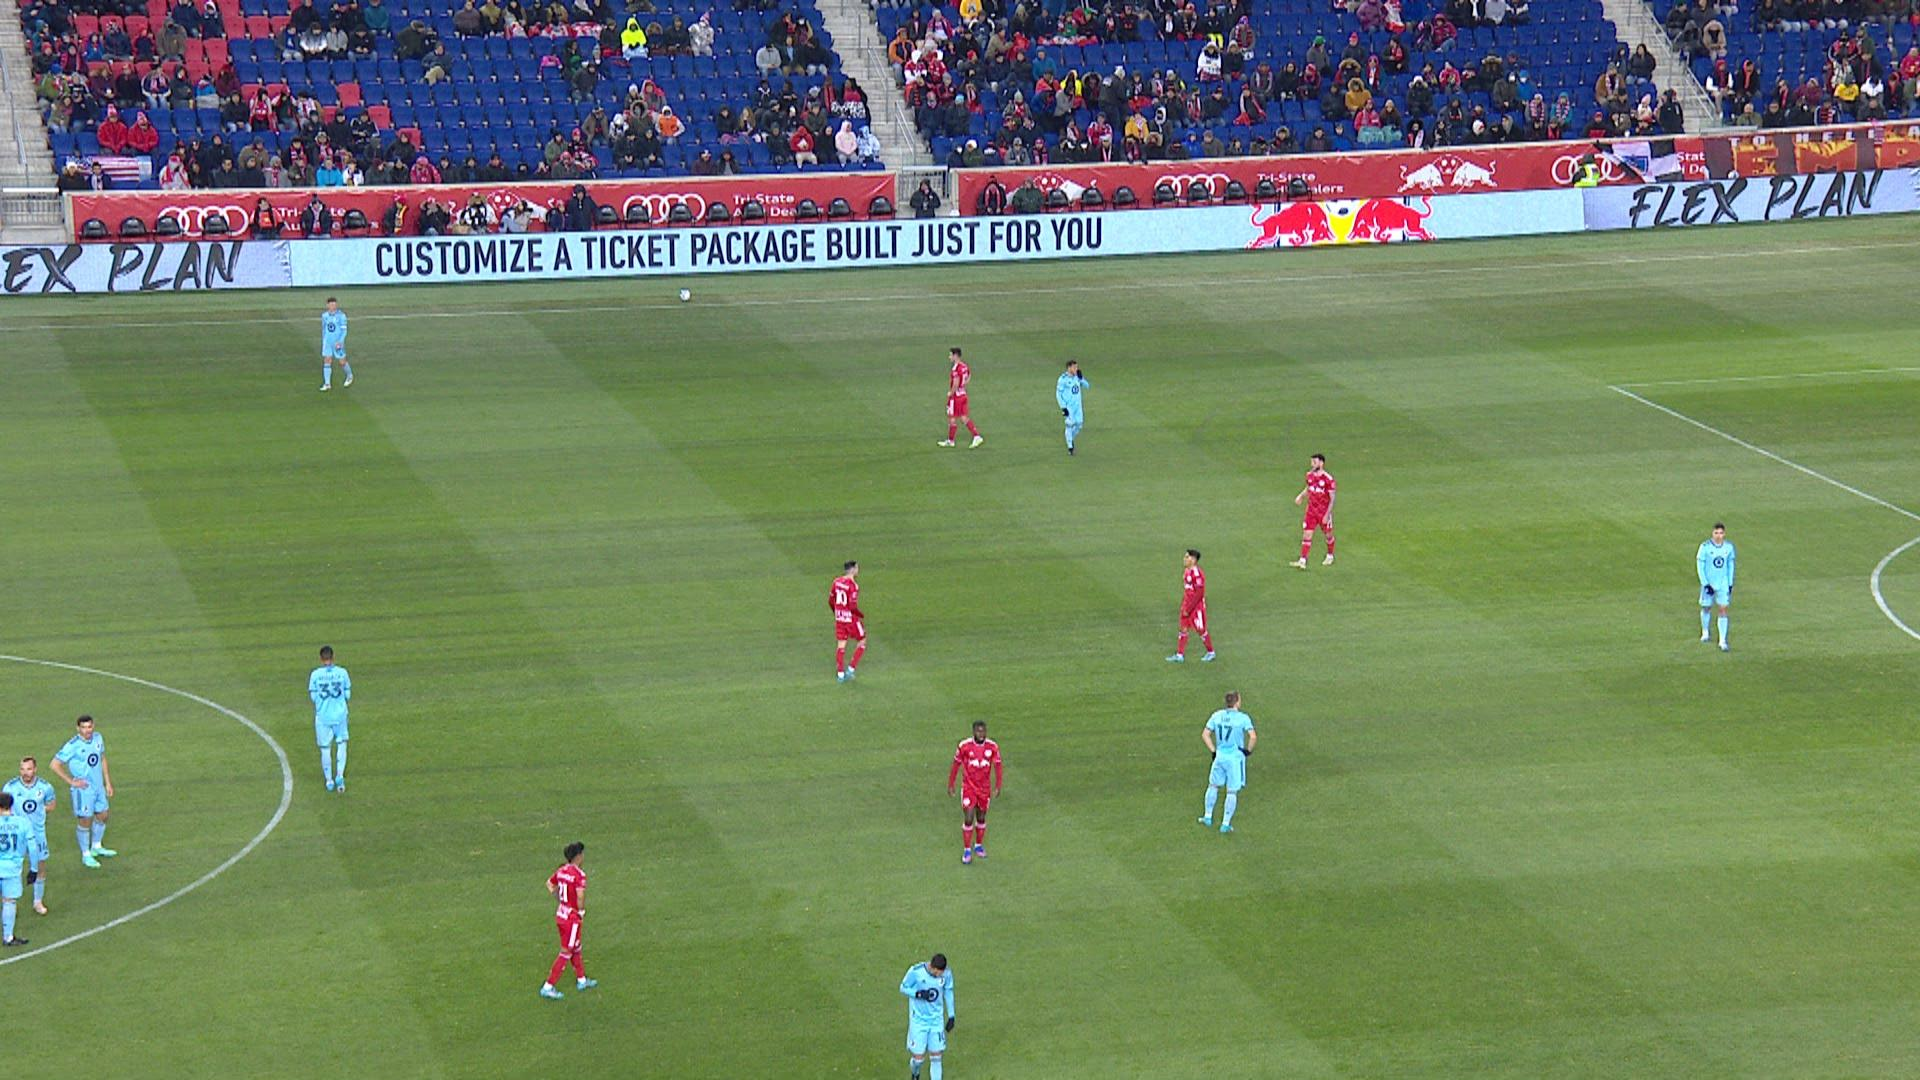football: (678, 287, 692, 302)
